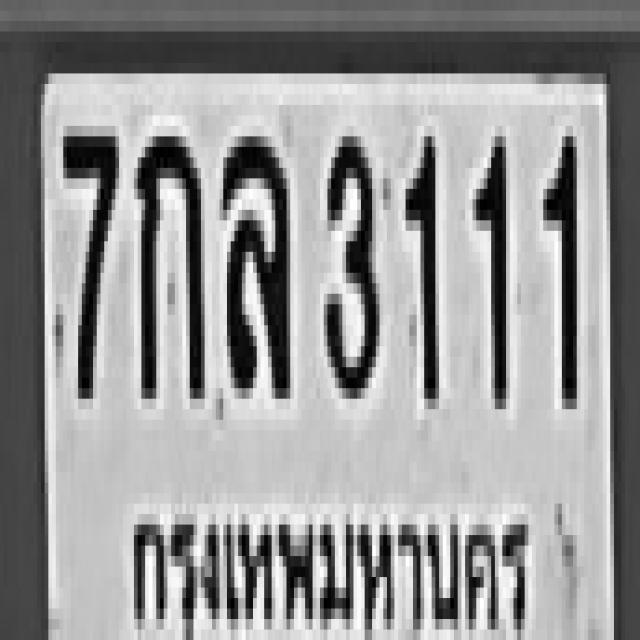1: (540, 126, 573, 399), (402, 126, 435, 399), (472, 126, 502, 399)
3: (320, 126, 376, 388)
7: (60, 126, 116, 388)
A01: (134, 126, 201, 388)
A36: (220, 126, 286, 388)
BKK: (126, 487, 535, 640)
